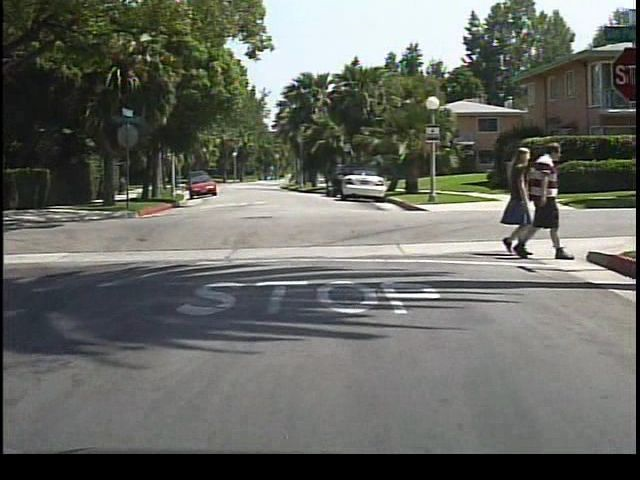person: (508, 142, 569, 264), (494, 146, 530, 254)
